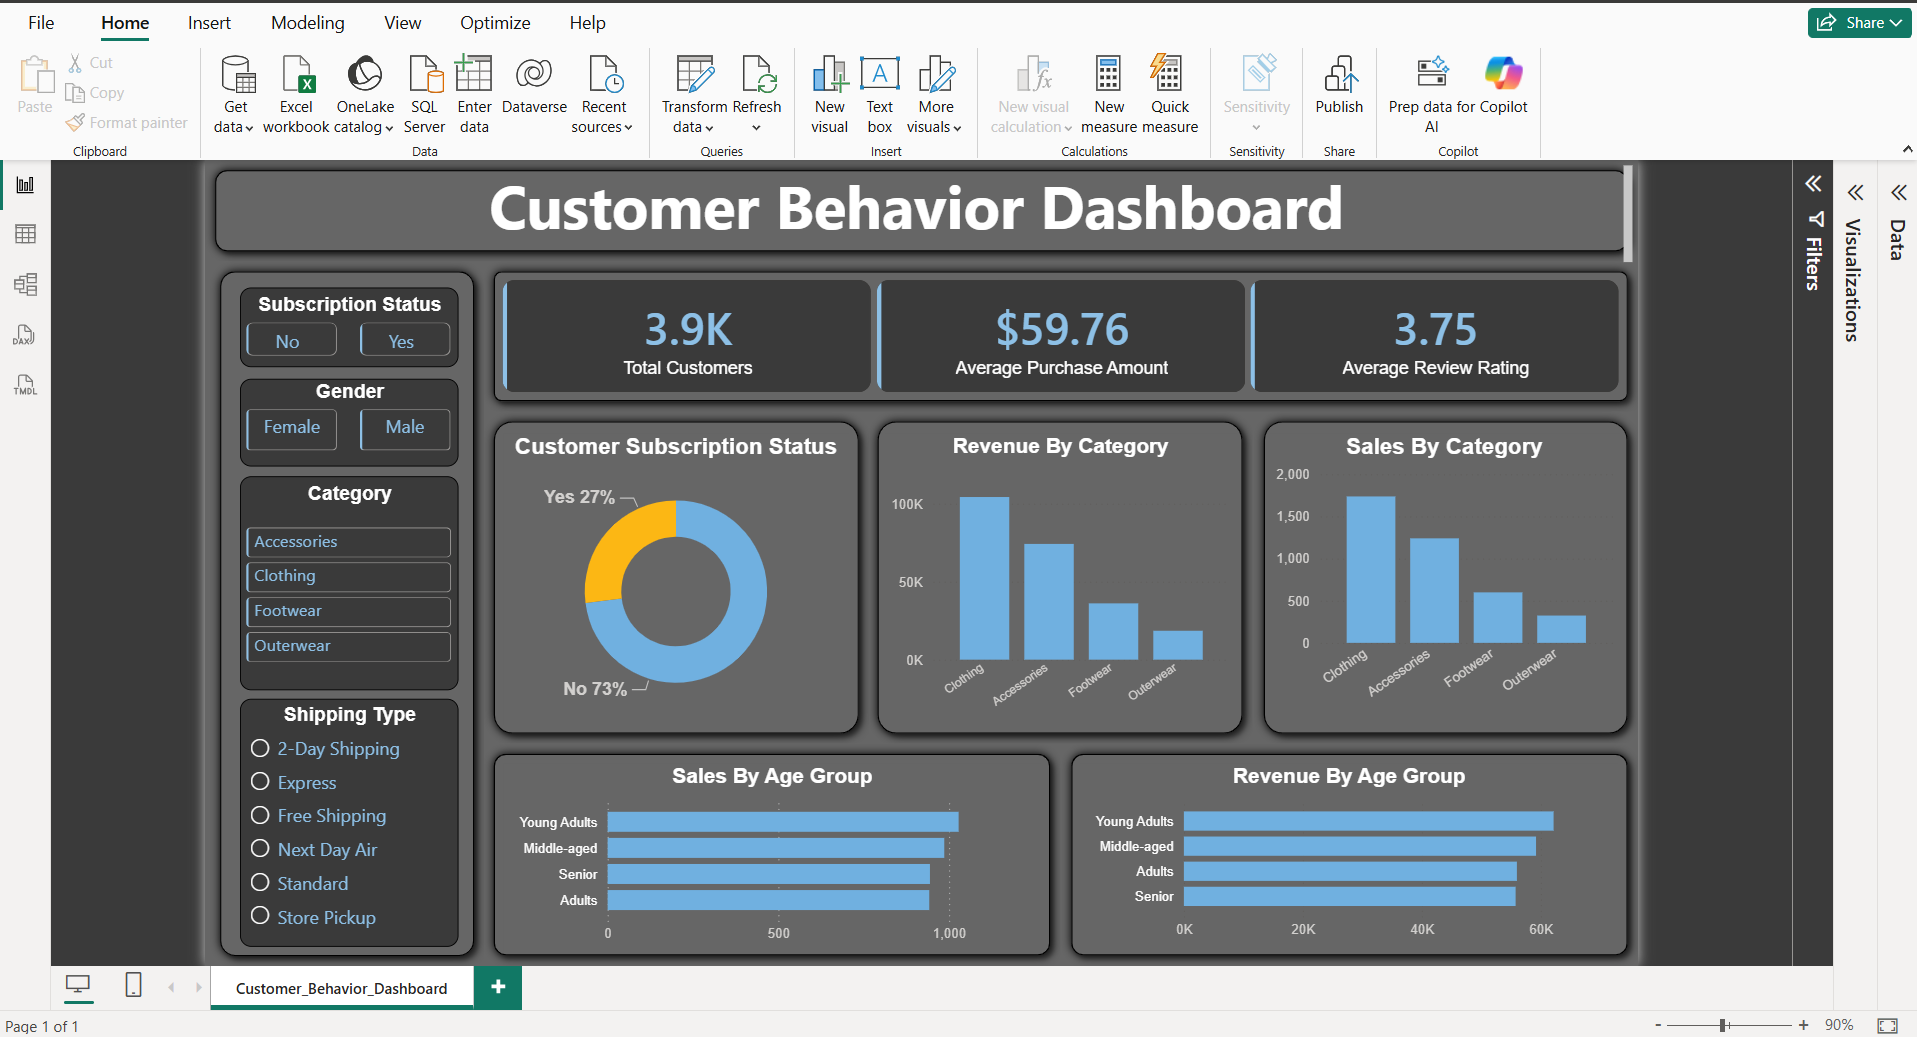

What the dashboard file says about the page in this screenshot:
{"tool":"powerbi","page":{"name":"Customer_Behavior_Dashboard","canvas":[1280,720],"ordinal":0},"visuals":[{"type":"shape","box":[249,522,515,198],"z":0},{"type":"shape","box":[4.3,90.6,245,629.6],"z":1000},{"type":"clusteredBarChart","title":"Sales By Age Group","fields":{"Y":["CountNonNull(public customer.customer_id)"],"Category":["public customer.age_group"]},"box":[267,539,480,168],"z":2000},{"type":"advancedSlicerVisual","title":"Subscription Status","fields":{"Values":["public customer.subscription_status"]},"box":[31,114,195,71],"z":3000},{"type":"advancedSlicerVisual","title":"Gender","fields":{"Values":["public customer.gender"]},"box":[31,195,195,78],"z":4000},{"type":"listSlicer","title":"Shipping Type","fields":{"Values":["public customer.shipping_type"]},"box":[31.1,481.3,194.9,221.7],"z":5000},{"type":"advancedSlicerVisual","title":"Category","fields":{"Values":["public customer.category"]},"box":[31,282,195,191],"z":6000},{"type":"shape","box":[0,0,1280,90.6],"z":7000},{"type":"textbox","box":[0,0,1280,96.6],"z":8000},{"type":"shape","box":[249,91,1031,134],"z":9000},{"type":"cardVisual","fields":{"Data":["CountNonNull(public customer.customer_id)","public customer.Average Purchase Amount","public customer.Average Review Rating"]},"box":[249,91,1031,134],"z":10000},{"type":"shape","box":[249,225,344,297],"z":11000},{"type":"shape","box":[592,225,344,297],"z":12000},{"type":"shape","box":[937,225,343,297],"z":13000},{"type":"shape","box":[765,522,515,198],"z":14000},{"type":"clusteredBarChart","title":"Revenue By Age Group","fields":{"Y":["Sum(public customer.purchase_amount)"],"Category":["public customer.age_group"]},"box":[782,539,481,164],"z":15000},{"type":"donutChart","title":"Customer Subscription Status","fields":{"Category":["public customer.subscription_status"],"Y":["CountNonNull(public customer.customer_id)"]},"box":[267,245,308,260],"z":16000},{"type":"columnChart","title":"Revenue By Category","fields":{"Y":["Sum(public customer.purchase_amount)"],"Category":["public customer.category"]},"box":[608,245,314,258],"z":17000},{"type":"columnChart","title":"Sales By Category","fields":{"Y":["CountNonNull(public customer.customer_id)"],"Category":["public customer.category"]},"box":[951,245,312,258],"z":18000}]}

Visuals, with their boxes on the page's 1280x720 design canvas (x1, y1, x2, y2). These are canvas units, not pixel positions in the 1917x1037 screenshot, which may show the page scaled, cropped or inside an application window:
shape: pyautogui.locateOnScreen(249, 522, 764, 720)
shape: pyautogui.locateOnScreen(4, 91, 249, 720)
"Sales By Age Group" clusteredBarChart: pyautogui.locateOnScreen(267, 539, 747, 707)
"Subscription Status" advancedSlicerVisual: pyautogui.locateOnScreen(31, 114, 226, 185)
"Gender" advancedSlicerVisual: pyautogui.locateOnScreen(31, 195, 226, 273)
"Shipping Type" listSlicer: pyautogui.locateOnScreen(31, 481, 226, 703)
"Category" advancedSlicerVisual: pyautogui.locateOnScreen(31, 282, 226, 473)
shape: pyautogui.locateOnScreen(0, 0, 1280, 91)
textbox: pyautogui.locateOnScreen(0, 0, 1280, 97)
shape: pyautogui.locateOnScreen(249, 91, 1280, 225)
cardVisual - CountNonNull(public customer.customer_id) x public customer.Average Purchase Amount: pyautogui.locateOnScreen(249, 91, 1280, 225)
shape: pyautogui.locateOnScreen(249, 225, 593, 522)
shape: pyautogui.locateOnScreen(592, 225, 936, 522)
shape: pyautogui.locateOnScreen(937, 225, 1280, 522)
shape: pyautogui.locateOnScreen(765, 522, 1280, 720)
"Revenue By Age Group" clusteredBarChart: pyautogui.locateOnScreen(782, 539, 1263, 703)
"Customer Subscription Status" donutChart: pyautogui.locateOnScreen(267, 245, 575, 505)
"Revenue By Category" columnChart: pyautogui.locateOnScreen(608, 245, 922, 503)
"Sales By Category" columnChart: pyautogui.locateOnScreen(951, 245, 1263, 503)
